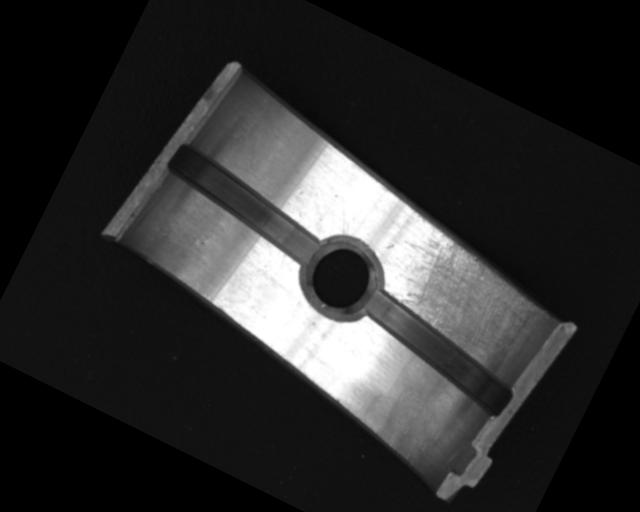gap: (346, 284, 532, 422), (153, 139, 330, 265)
hole: (293, 232, 393, 328)
scratch: (373, 219, 565, 386)
